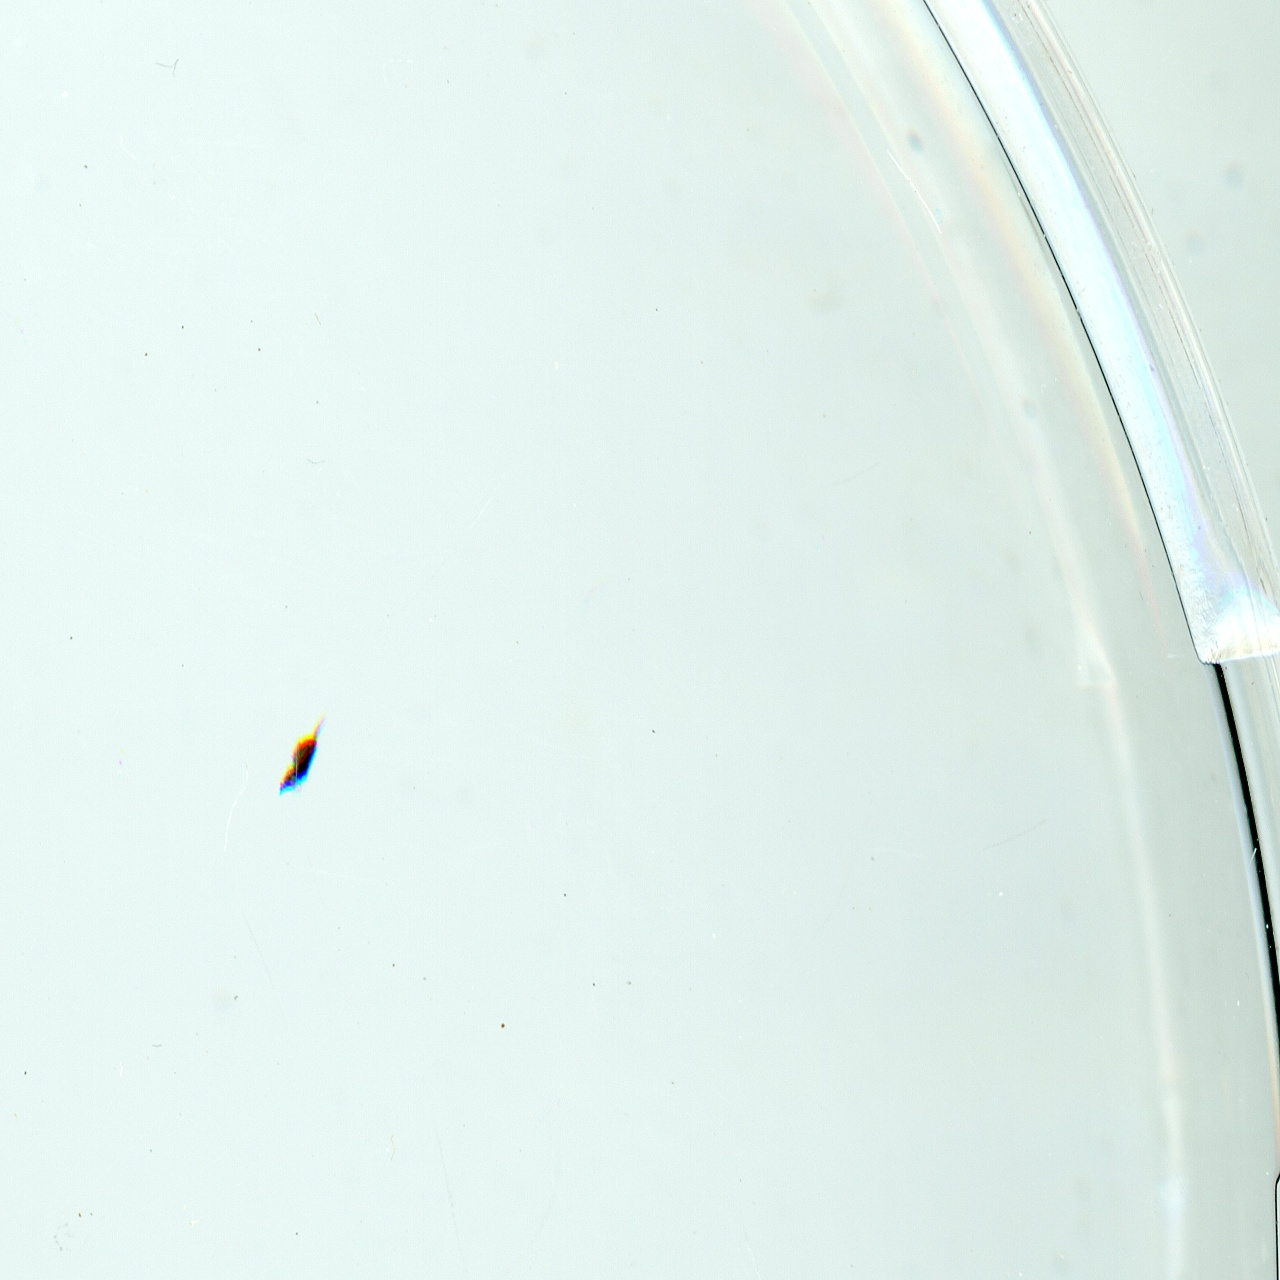arthropod: (277, 713, 325, 804)
